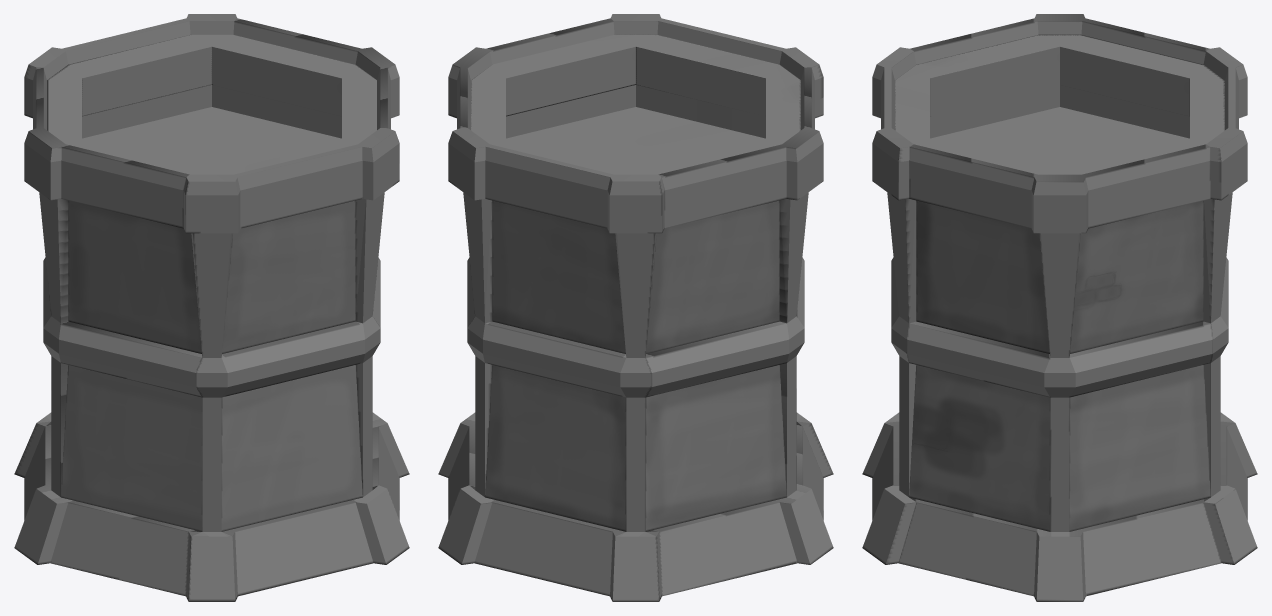
Rendered from NewTower.FBX.
The picture shows the model from 3 angles, left to right: view 1: azimuth 30°, elevation 25°; view 2: azimuth 150°, elevation 25°; view 3: azimuth 270°, elevation 25°; orthographic projection.
Parts seen in each view (by area): view 1: Cylinder001; view 2: Cylinder001; view 3: Cylinder001.
Part boxes in pixels (<box>): Cylinder001: <box>14,14,409,601</box>; Cylinder001: <box>438,14,833,601</box>; Cylinder001: <box>862,14,1257,601</box>.
Bounding box in the file's own units: 4.86 × 4.47 × 5.15.
Materials: 1 (1 with a texture image).
